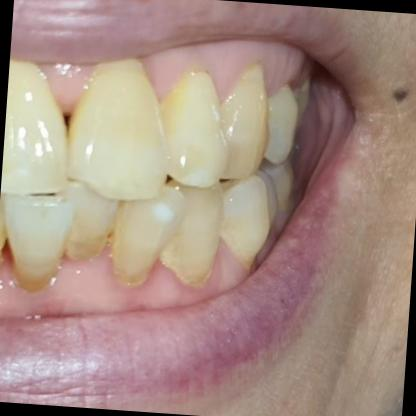Crowding: (5, 187, 121, 280), (127, 182, 215, 273)
